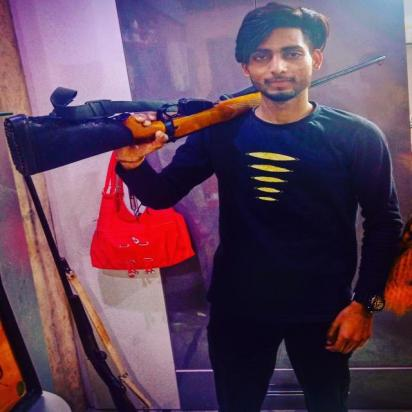Gun: (1, 54, 388, 179)
